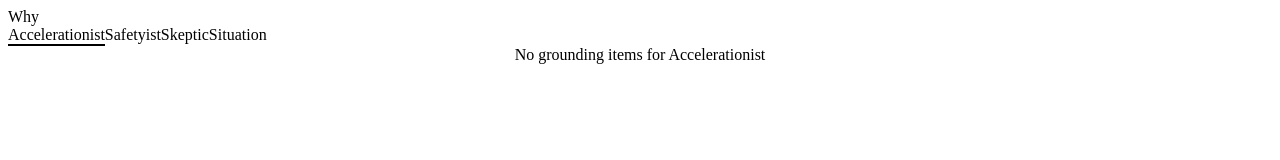
GroundingSection (t/4591) › shows the resolved situation label instead of anchorSummary when the id resolves (t/4674)
Click the tab "Situation" at [238, 36], box [209,26,267,46]
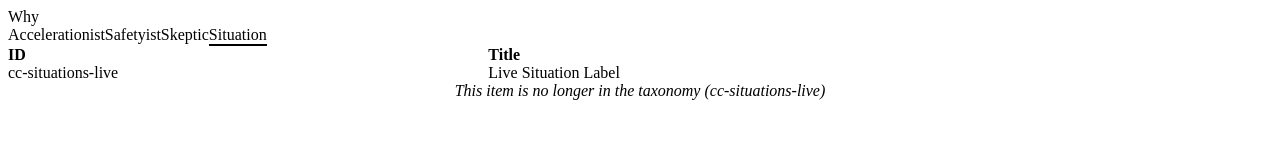
expect the text "Live Situation Label" is shown: met, box [488,64,1272,82]
